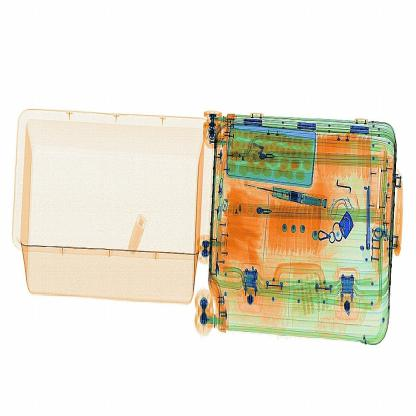pliers: (356, 182, 378, 251)
